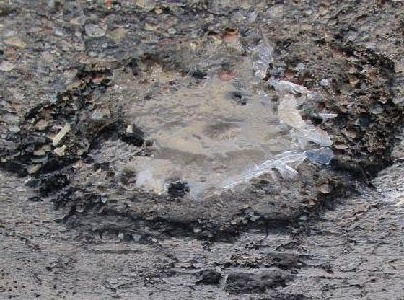pothole: (2, 24, 404, 247), (195, 242, 315, 299)
